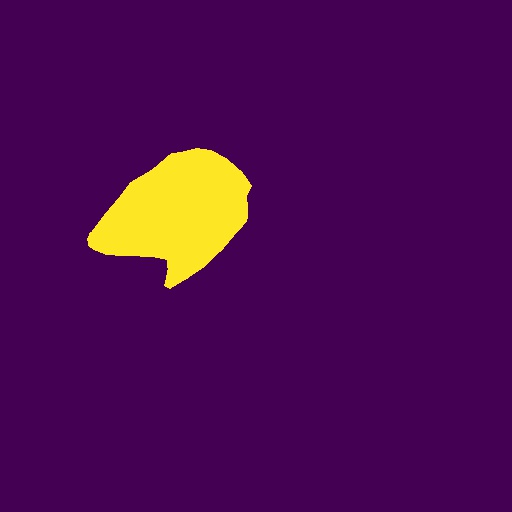Gliomia_tumour: (87, 148, 252, 289)
